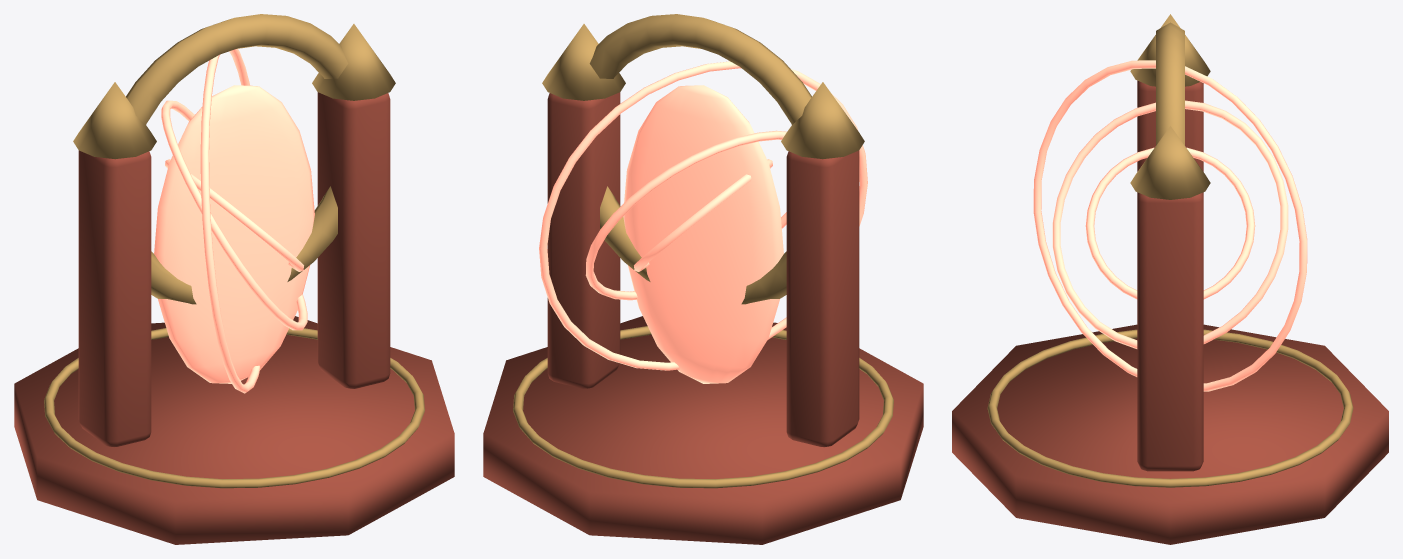
3 renders of one model, left to right at view 1: azimuth 30°, elevation 25°; view 2: azimuth 150°, elevation 25°; view 3: azimuth 270°, elevation 25°, orthographic. The views are drawn at different scales.
Visible parts, largest first — view 1: Hexagonal plinth, Portal heart, Gate pillar, Gate pillar.001, Arched lintel, Inlaid rim, Resonance halo.002, Pillar crown, Pillar crown.001, Resonance halo.001, Resonance halo; view 2: Hexagonal plinth, Portal heart, Gate pillar, Gate pillar.001, Arched lintel, Inlaid rim, Resonance halo.002, Pillar crown, Pillar crown.001, Resonance halo.001, Resonance halo; view 3: Hexagonal plinth, Gate pillar.001, Resonance halo.002, Inlaid rim, Resonance halo.001, Resonance halo, Pillar crown.001, Arched lintel, Gate pillar, Pillar crown.
Part boxes in pixels (x1=…): Hexagonal plinth: x1=14, y1=316, x2=454, y2=544; Portal heart: x1=154, y1=85, x2=314, y2=383; Gate pillar: x1=78, y1=150, x2=151, y2=447; Gate pillar.001: x1=317, y1=92, x2=390, y2=388; Arched lintel: x1=126, y1=14, x2=348, y2=304; Inlaid rim: x1=44, y1=328, x2=424, y2=488; Resonance halo.002: x1=200, y1=49, x2=260, y2=393; Pillar crown: x1=73, y1=82, x2=156, y2=159; Pillar crown.001: x1=312, y1=24, x2=395, y2=100; Resonance halo.001: x1=161, y1=100, x2=307, y2=330; Resonance halo: x1=165, y1=159, x2=303, y2=271; Hexagonal plinth: x1=483, y1=316, x2=923, y2=544; Portal heart: x1=623, y1=85, x2=783, y2=383; Gate pillar: x1=786, y1=150, x2=859, y2=447; Gate pillar.001: x1=547, y1=92, x2=620, y2=388; Arched lintel: x1=589, y1=14, x2=811, y2=304; Inlaid rim: x1=513, y1=326, x2=893, y2=488; Resonance halo.002: x1=539, y1=61, x2=867, y2=370; Pillar crown: x1=781, y1=82, x2=864, y2=159; Pillar crown.001: x1=542, y1=24, x2=625, y2=100; Resonance halo.001: x1=585, y1=130, x2=786, y2=300; Resonance halo: x1=634, y1=159, x2=772, y2=271; Hexagonal plinth: x1=952, y1=324, x2=1388, y2=544; Gate pillar.001: x1=1137, y1=192, x2=1203, y2=471; Resonance halo.002: x1=1033, y1=60, x2=1307, y2=391; Inlaid rim: x1=987, y1=329, x2=1353, y2=487; Resonance halo.001: x1=1052, y1=100, x2=1288, y2=348; Resonance halo: x1=1085, y1=147, x2=1255, y2=299; Pillar crown.001: x1=1130, y1=126, x2=1210, y2=199; Arched lintel: x1=1156, y1=22, x2=1184, y2=145; Gate pillar: x1=1137, y1=80, x2=1203, y2=171; Pillar crown: x1=1130, y1=14, x2=1210, y2=86.
Bounding box in the file's own units: 1.52 × 1.6 × 1.52.
